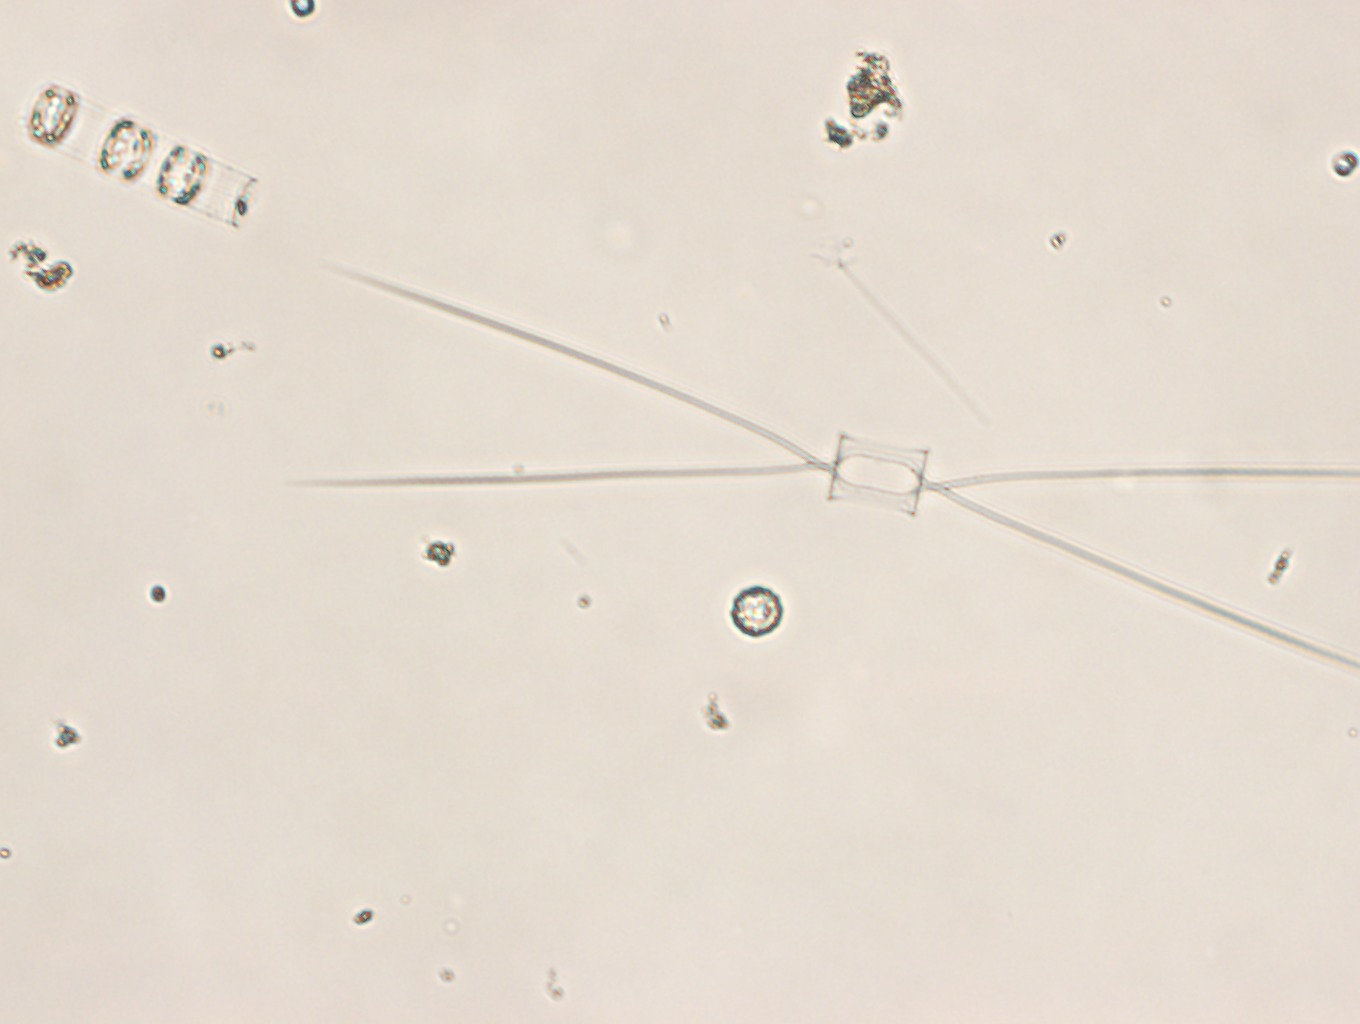chaetoceros: (318, 256, 1360, 672)
skeletonema: (16, 84, 260, 227)
